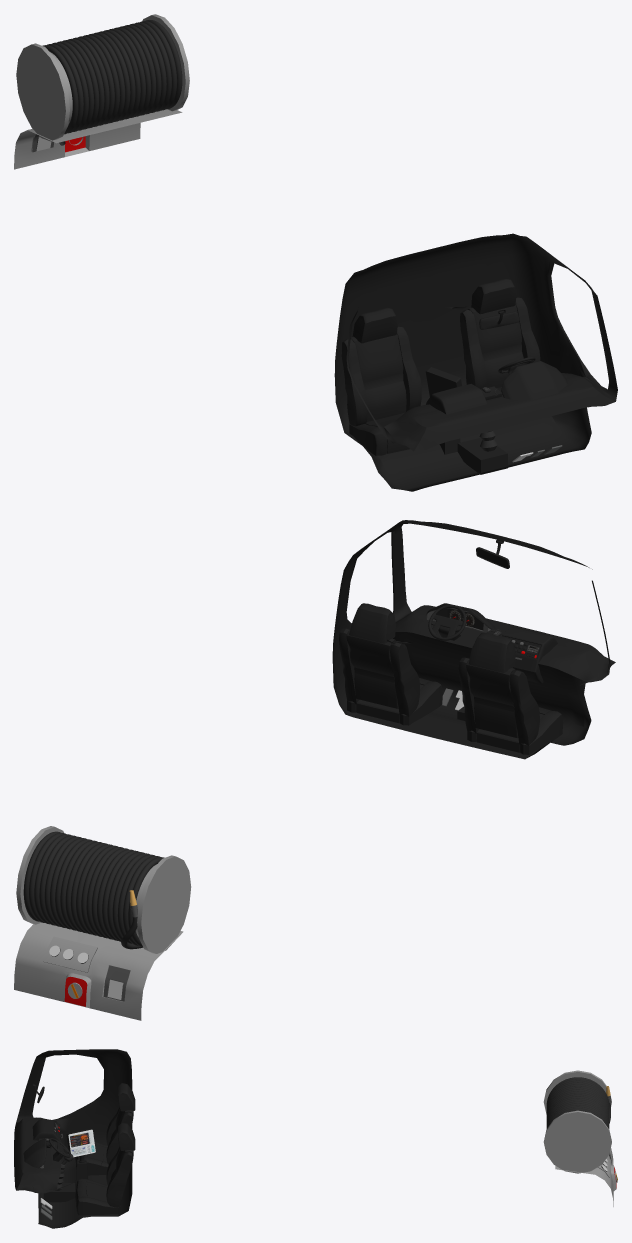
File: пожарная_машина_0 1.fbx
3 renders of one model, top to bottom at view 1: azimuth 30°, elevation 25°; view 2: azimuth 150°, elevation 25°; view 3: azimuth 270°, elevation 25°, orthographic. The views are drawn at different scales.
Visible parts, largest first — view 1: desirefx.me_042, desirefx.me_049, ОкружностьБезье, Цилиндр.001, desirefx.me_042.002, Цилиндр, монитор; view 2: desirefx.me_042, desirefx.me_049, Цилиндр.001, ОкружностьБезье, desirefx.me_042.001; view 3: desirefx.me_042, Цилиндр.001, desirefx.me_049, ОкружностьБезье, монитор, Цилиндр, desirefx.me_042.002.
Boxes of the visible parts, x1,y1,x2,y2 form: desirefx.me_042: [334, 233, 617, 491]; desirefx.me_049: [341, 279, 540, 455]; ОкружностьБезье: [42, 20, 182, 134]; Цилиндр.001: [14, 14, 189, 169]; desirefx.me_042.002: [501, 361, 567, 399]; Цилиндр: [457, 430, 507, 474]; монитор: [425, 367, 461, 454]; desirefx.me_042: [332, 520, 615, 759]; desirefx.me_049: [339, 603, 563, 754]; Цилиндр.001: [14, 826, 191, 1020]; ОкружностьБезье: [23, 831, 164, 946]; desirefx.me_042.001: [428, 604, 466, 640]; desirefx.me_042: [14, 1049, 132, 1228]; Цилиндр.001: [543, 1070, 617, 1206]; desirefx.me_049: [75, 1083, 135, 1215]; ОкружностьБезье: [546, 1077, 609, 1128]; монитор: [66, 1129, 95, 1189]; Цилиндр: [43, 1153, 75, 1202]; desirefx.me_042.002: [23, 1138, 46, 1168].
Bounding box in the file's own units: 19.09 × 15.51 × 67.27.
